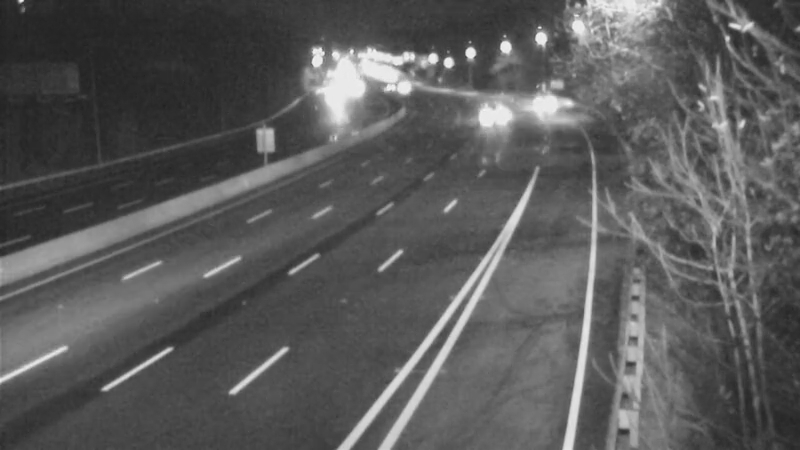vehicle: (511, 77, 561, 127), (469, 87, 519, 137)
